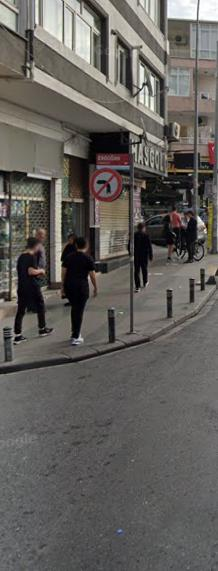leftturnsareforbidden: (92, 168, 122, 201)
